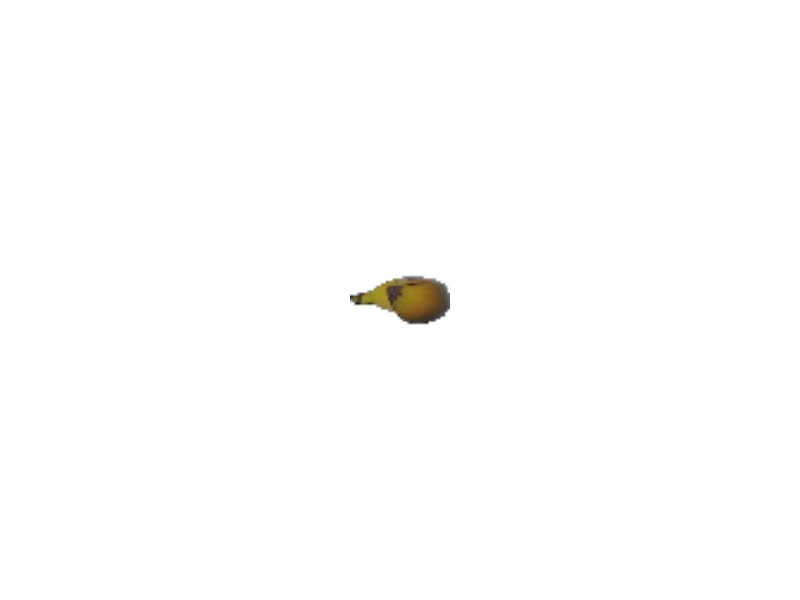banana: (348, 273, 454, 326)
